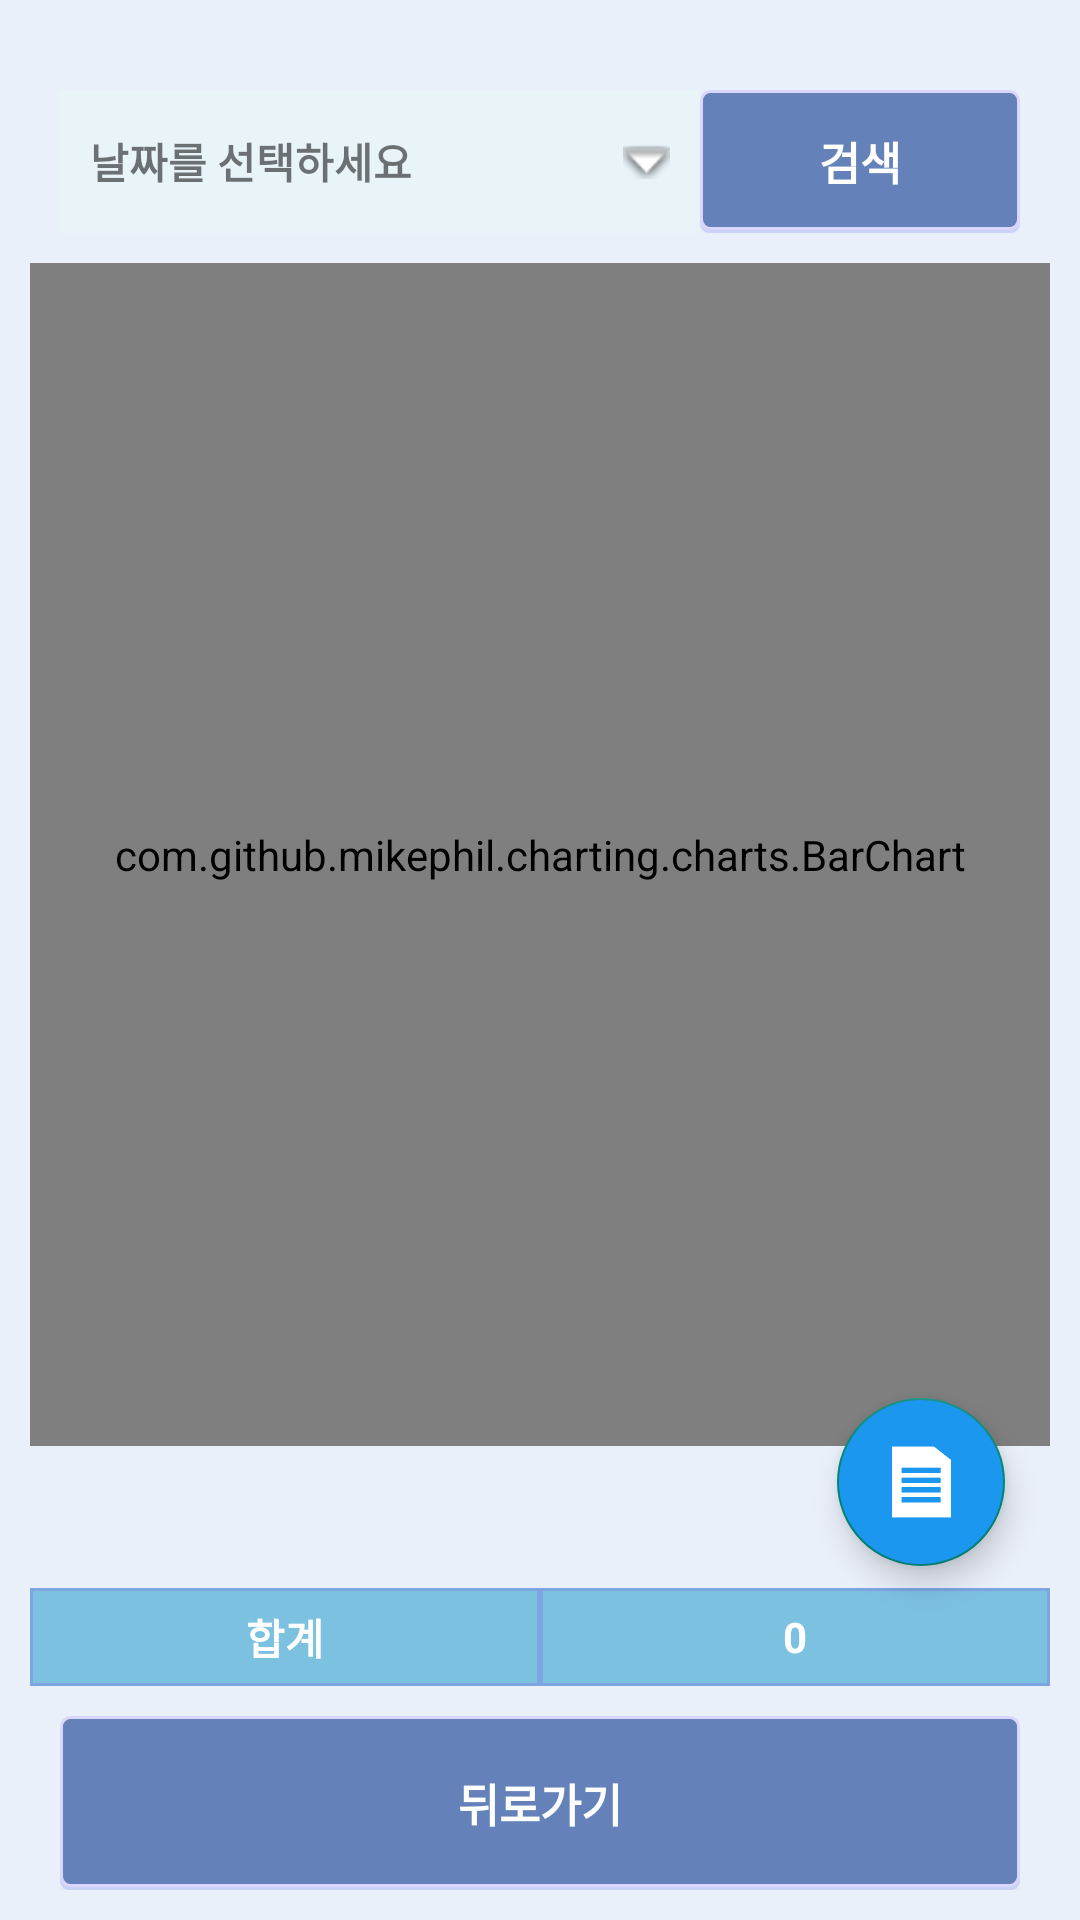

Where to tap for icons on this 1080×1920 app screen, as [x,y]:
detail: [921,1482]
